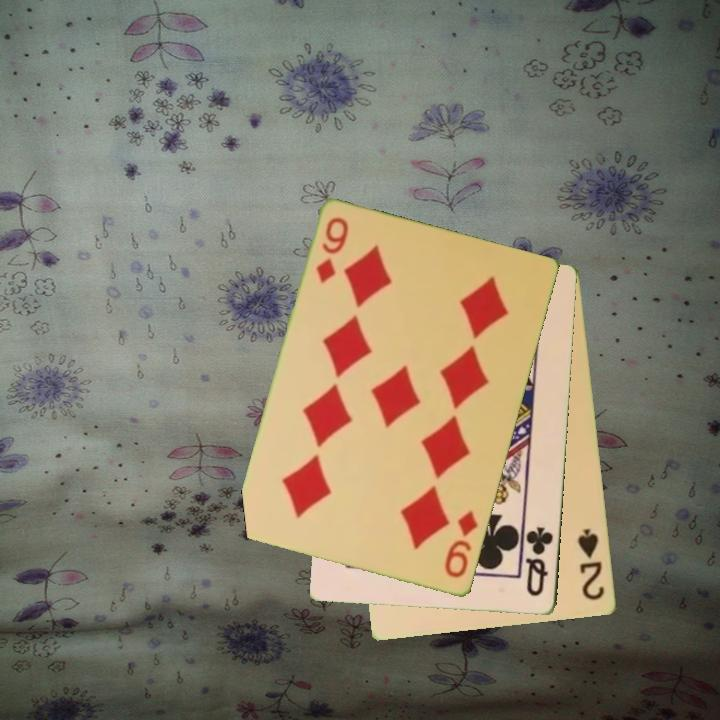2s: (575, 525, 608, 603)
9d: (441, 507, 481, 582), (312, 214, 352, 287)
Qc: (522, 524, 557, 600)
